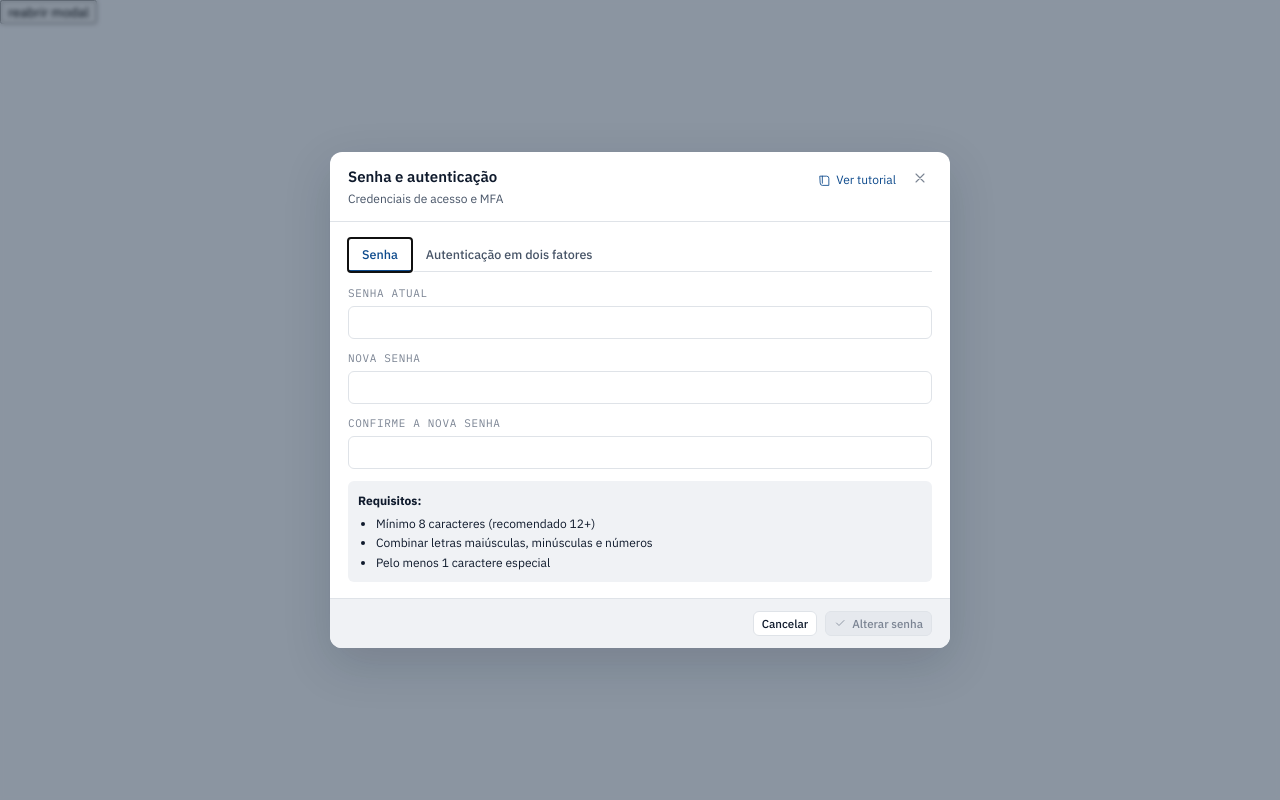
FormSenha2FA — códigos de recuperação › mostra a contagem de códigos restantes quando o 2FA está ativo
This screenshot has width=1280, height=800.
Click the button "Autenticação em dois fatores". click: (509, 255)
box: [412,238,606,272]
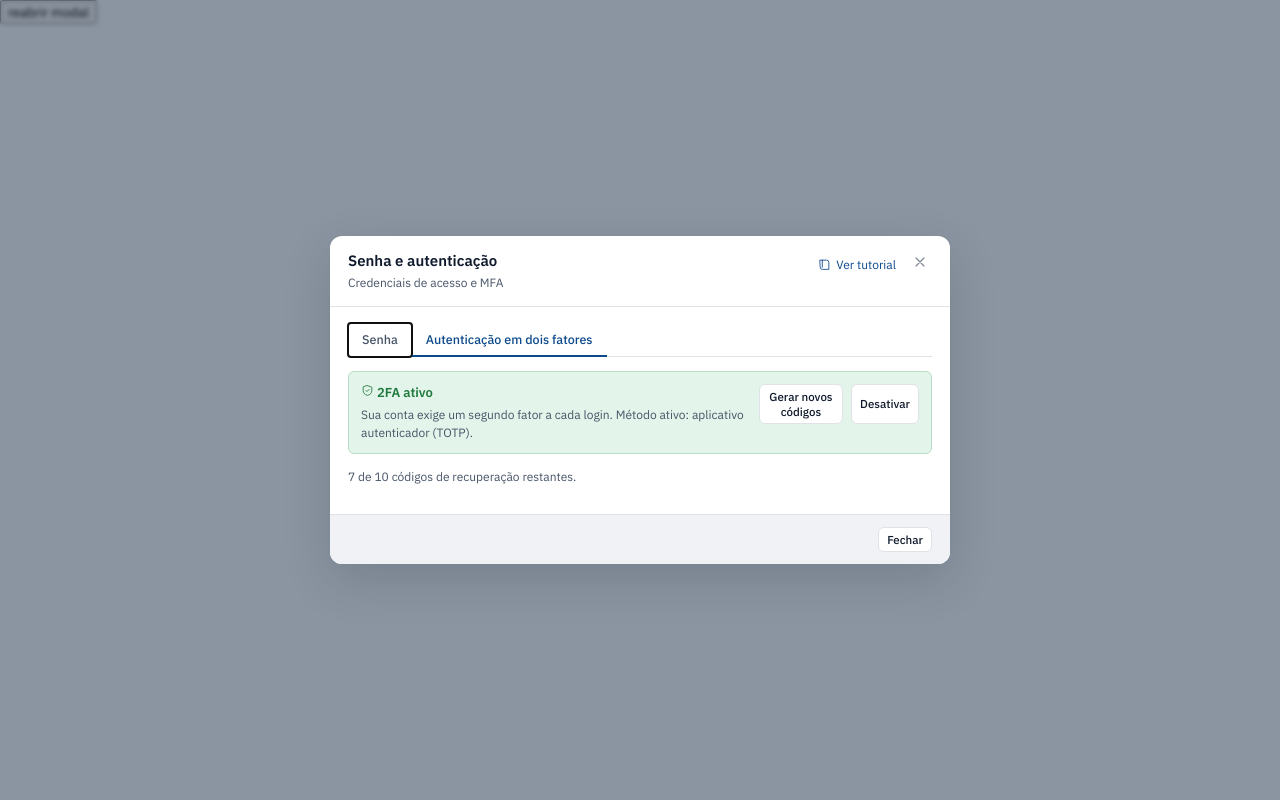
Now the text "7 de 10 códigos de recuperação restantes." is shown, box [348,469,576,484]
